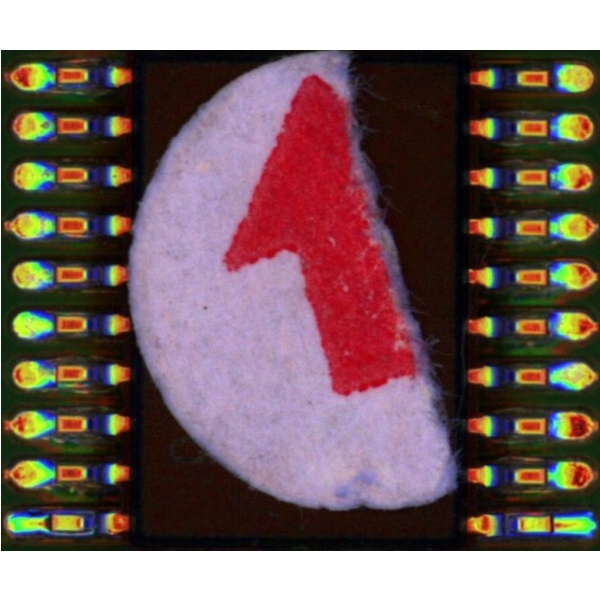Bad_podu: (536, 518, 568, 529), (31, 516, 58, 529)
Bad_qiaojiao: (50, 529, 93, 537)
